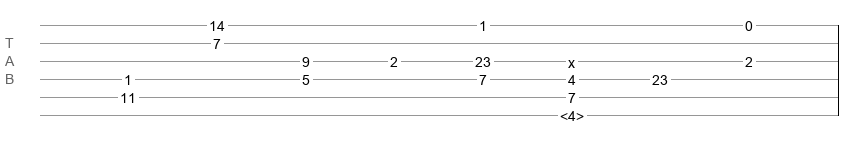0: (745, 18, 753, 28)
1: (124, 72, 132, 82), (479, 18, 487, 28)
11: (120, 90, 136, 100)
14: (209, 18, 225, 28)
2: (390, 54, 398, 64), (745, 54, 753, 64)
23: (475, 54, 491, 64), (652, 72, 668, 82)
4: (568, 72, 576, 82)
5: (302, 72, 310, 82)
7: (213, 36, 221, 46), (479, 72, 487, 82), (568, 90, 576, 100)
9: (302, 54, 310, 64)
harmonic: (560, 108, 584, 118)
x: (568, 55, 575, 63)
